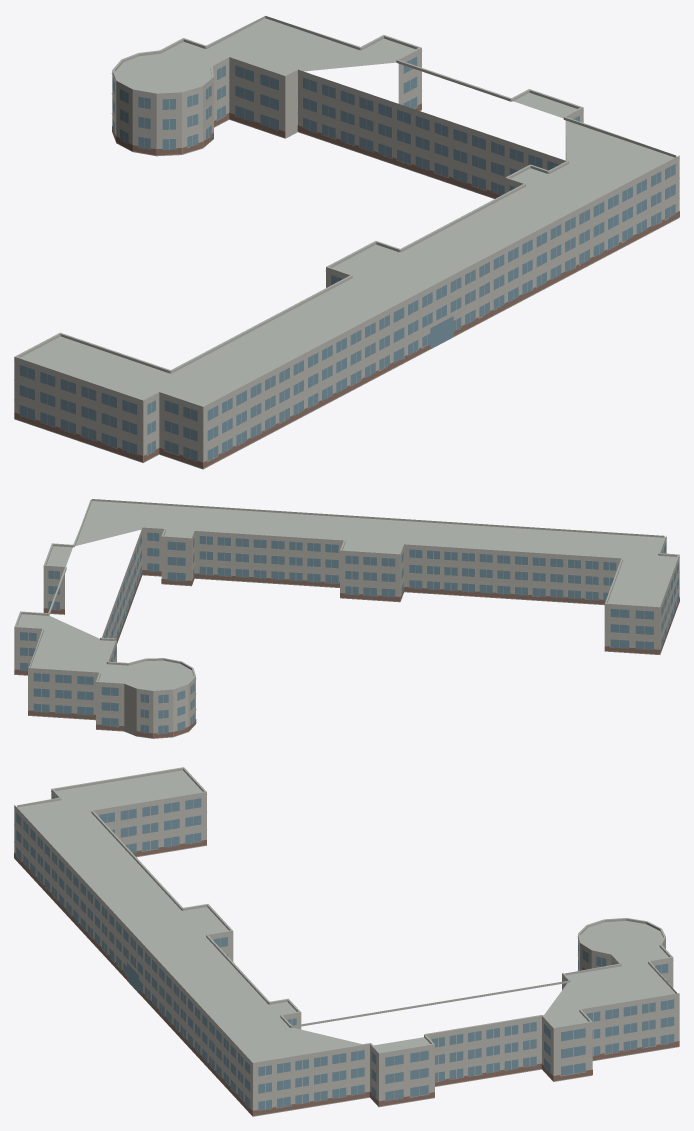
The model's file is public-2e93fc54-6ab0-4772-9578-54130a18fa50.glb.
3 views of the same model, one above another, from view 1: azimuth 30°, elevation 25°; view 2: azimuth 150°, elevation 25°; view 3: azimuth 270°, elevation 25° (orthographic). The views are drawn at different scales.
Parts seen in each view (by area): view 1: public-2e93fc54-6ab0-4772-9578-54130a18fa50; view 2: public-2e93fc54-6ab0-4772-9578-54130a18fa50; view 3: public-2e93fc54-6ab0-4772-9578-54130a18fa50.
Boxes of the visible parts, box(x1,y1,x2,y2) form: public-2e93fc54-6ab0-4772-9578-54130a18fa50: box(14, 16, 679, 469); public-2e93fc54-6ab0-4772-9578-54130a18fa50: box(14, 499, 679, 738); public-2e93fc54-6ab0-4772-9578-54130a18fa50: box(14, 767, 679, 1116).
Bounding box in the file's own units: 108 × 9.15 × 103.
